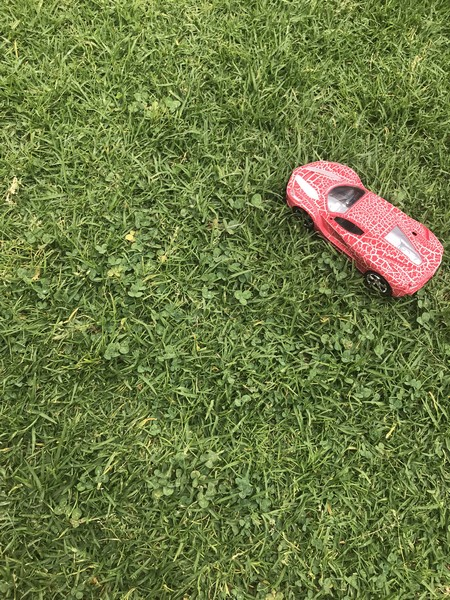RC: (284, 160, 446, 302)
